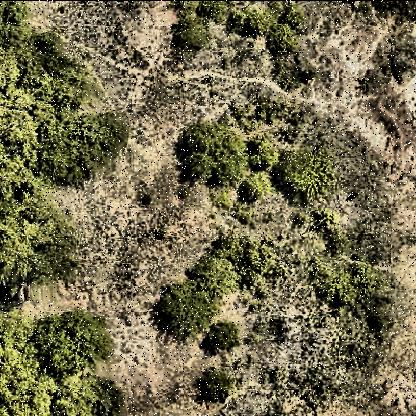tree-top: (4, 193, 74, 297), (47, 105, 125, 185), (36, 308, 114, 376), (1, 309, 47, 416), (26, 36, 87, 104), (183, 126, 249, 188), (2, 91, 42, 189), (154, 282, 216, 344), (276, 146, 331, 202), (51, 379, 125, 416), (190, 254, 239, 298), (338, 262, 384, 302), (170, 20, 212, 54), (238, 10, 276, 41), (201, 370, 235, 404), (248, 136, 280, 170), (1, 45, 25, 89), (269, 23, 299, 55), (211, 322, 239, 352), (5, 2, 29, 28)
